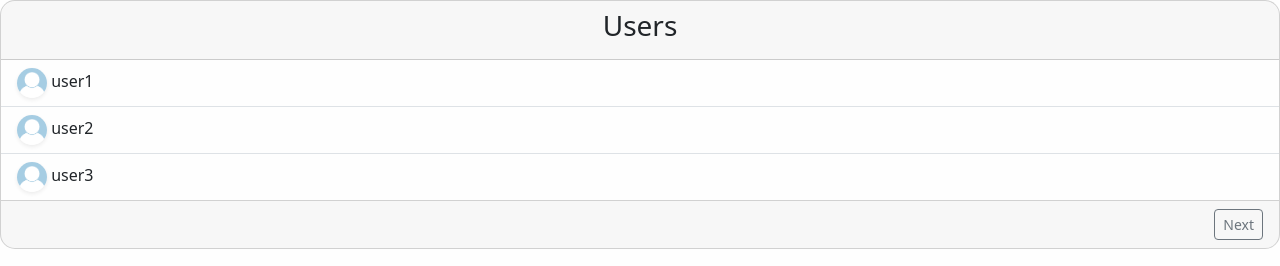
Scenario: UserList › when user clicks next › when last page is loaded › does not display next page button
The width and height of the screenshot is (1280, 266).
Check: the list item "user1" is shown, box [1, 60, 1279, 107]
What coordinates should you click on to do the following:
click the button "Next"
I would click on:
 (1239, 224)
Its box is [1214, 209, 1263, 240].
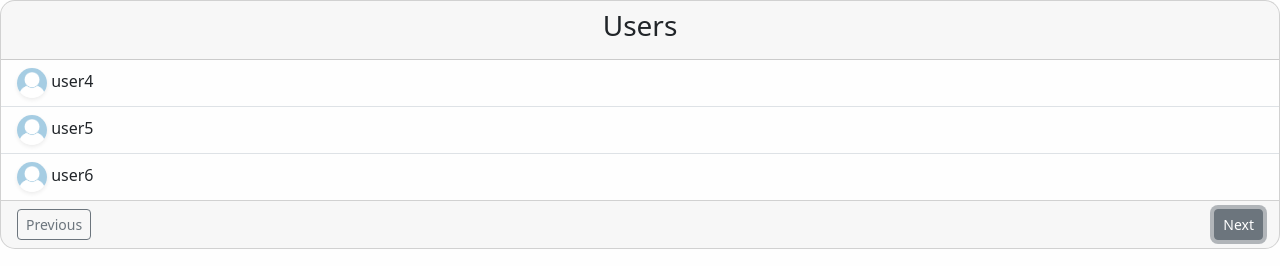
Check: the list item "user4" is shown, box [1, 60, 1279, 107]
What coordinates should you click on to do the following:
click the button "Next"
I would click on:
 (1239, 224)
Its box is [1214, 209, 1263, 240].
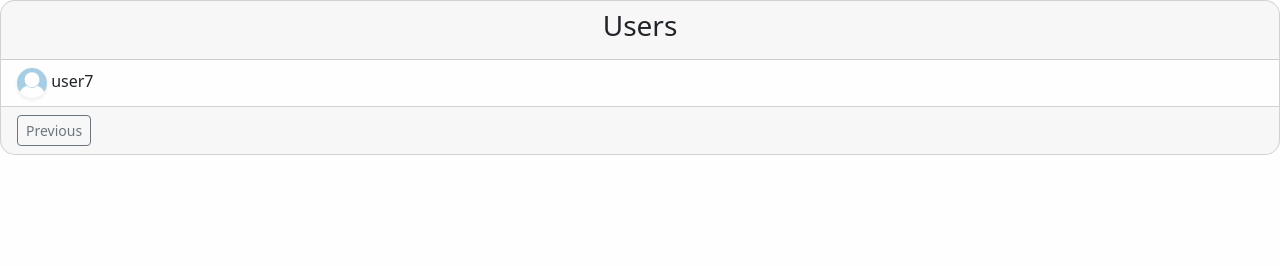
Check: the list item "user7" is shown, box [1, 60, 1279, 106]
Check: the button "Next" is gone
